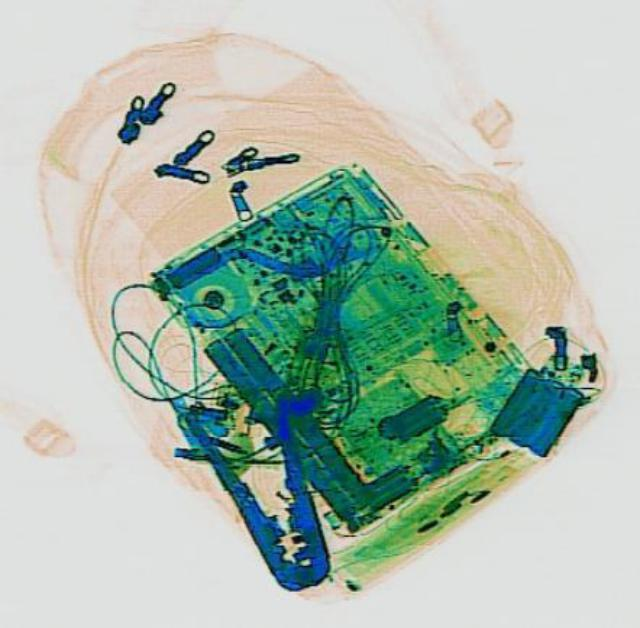Pliers: (182, 381, 350, 600)
